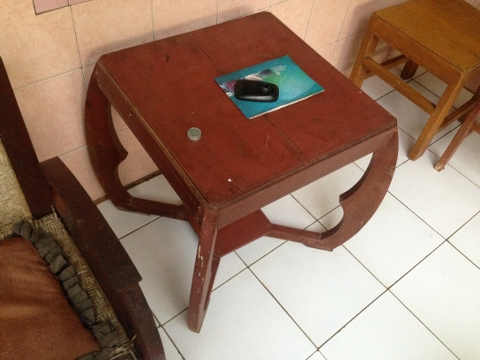meja: (85, 11, 399, 333)
